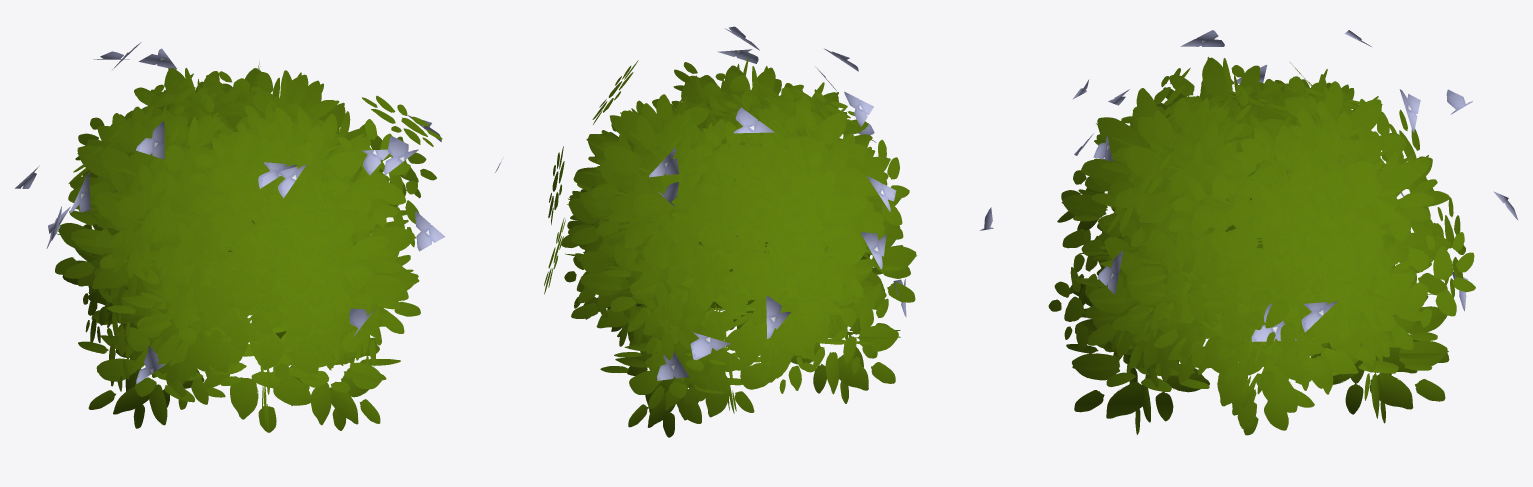
File: bush_flowers.glb
3 views of the same model, side by side, from view 1: azimuth 30°, elevation 25°; view 2: azimuth 150°, elevation 25°; view 3: azimuth 270°, elevation 25° (orthographic). The views are drawn at different scales.
Visible parts, largest first — view 1: Bush_Common_Flowers; view 2: Bush_Common_Flowers; view 3: Bush_Common_Flowers.
Boxes of the visible parts, x1,y1,x2,y2 form: Bush_Common_Flowers: (15,42,444,432); Bush_Common_Flowers: (495,26,916,437); Bush_Common_Flowers: (980,30,1517,435).
Size of the model in its own units: 1.78 by 1.57 by 1.9.
2 materials, 2 textured.
